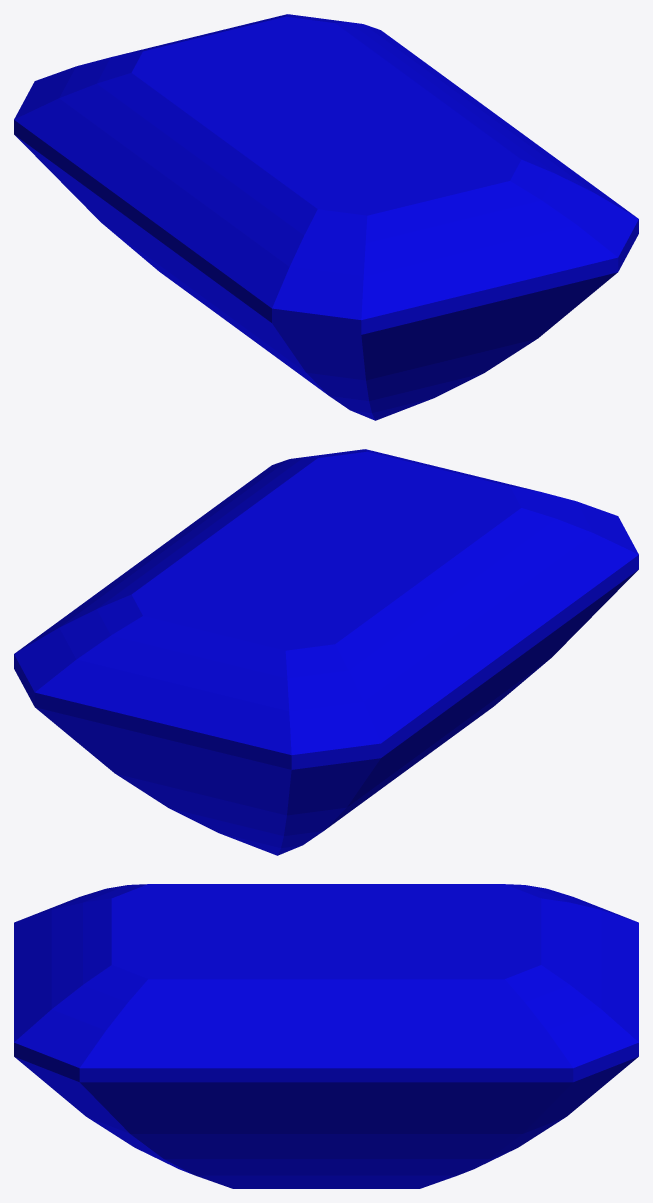
The model's file is Head_No Halo_Emerald_0.50ct_Diamond.glb.
3 renders of one model, top to bottom at view 1: azimuth 30°, elevation 25°; view 2: azimuth 150°, elevation 25°; view 3: azimuth 270°, elevation 25°, orthographic. The views are drawn at different scales.
Bounding box in the file's own units: 0.00374 × 0.00262 × 0.00576.
